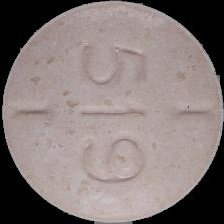63187-581: (0, 0, 224, 224)
